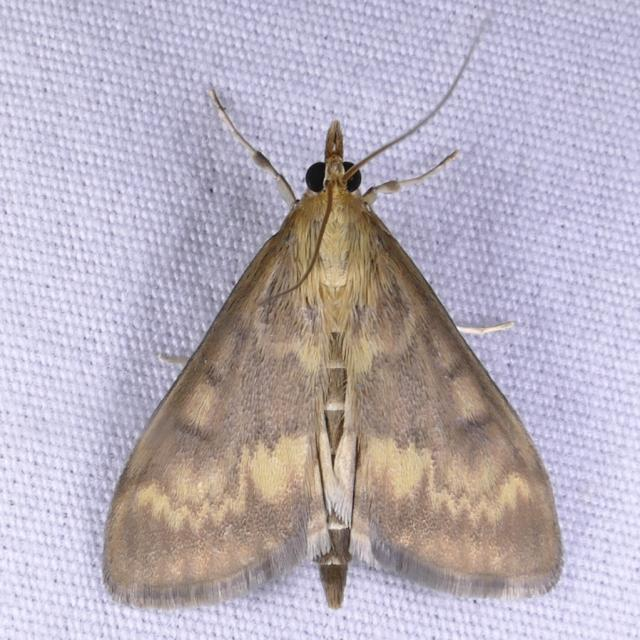cornborer-Adult-: (95, 60, 571, 620)
